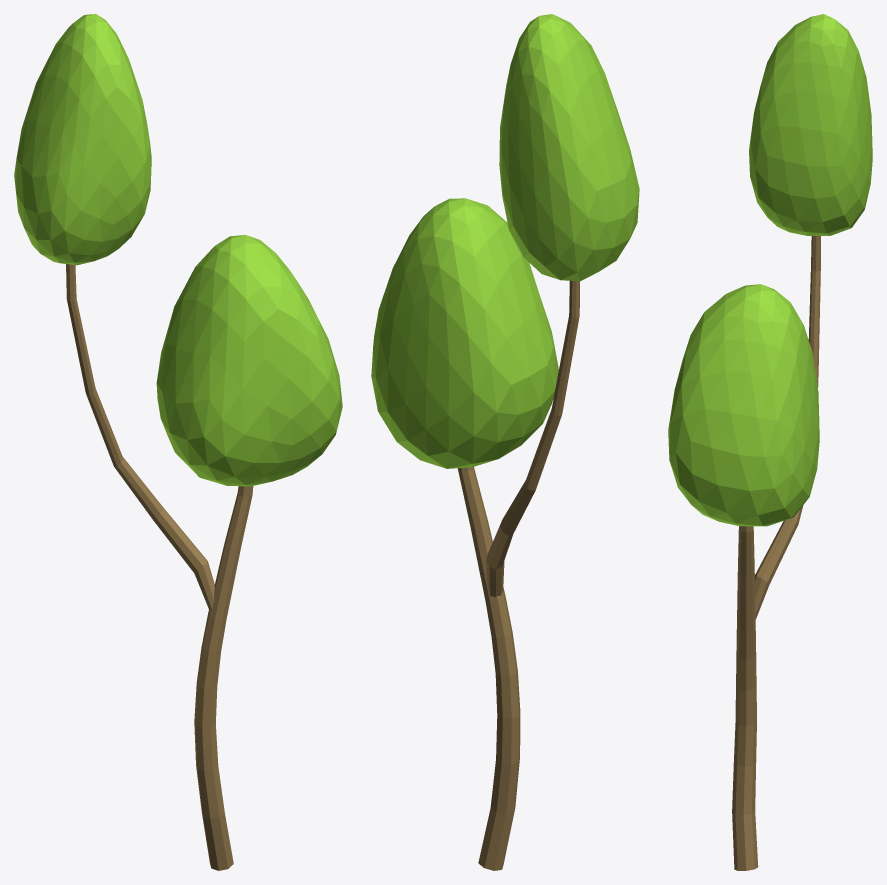
The model's file is tree2.gltf.
The picture shows the model from 3 angles, left to right: view 1: azimuth 30°, elevation 25°; view 2: azimuth 150°, elevation 25°; view 3: azimuth 270°, elevation 25°; orthographic projection. The views are drawn at different scales.
Visible parts, largest first — view 1: TreeV1.001; view 2: TreeV1.001; view 3: TreeV1.001.
Part boxes in pixels (bbox=[...]): TreeV1.001: bbox=[14, 14, 342, 870]; TreeV1.001: bbox=[371, 14, 639, 870]; TreeV1.001: bbox=[668, 14, 872, 870].
Size of the model in its own units: 1.65 by 5.04 by 1.15.
Materials: 1 (1 with a texture image).
